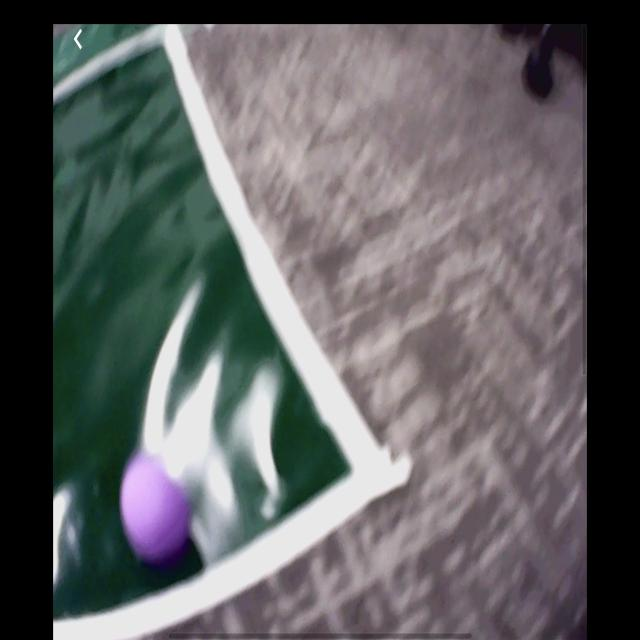ball: (119, 449, 193, 567)
